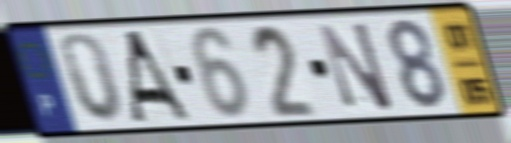0: (58, 30, 126, 128)
2: (250, 21, 322, 119)
6: (189, 22, 253, 124)
8: (385, 17, 449, 113)
A: (126, 27, 195, 124)
N: (314, 18, 398, 114)
